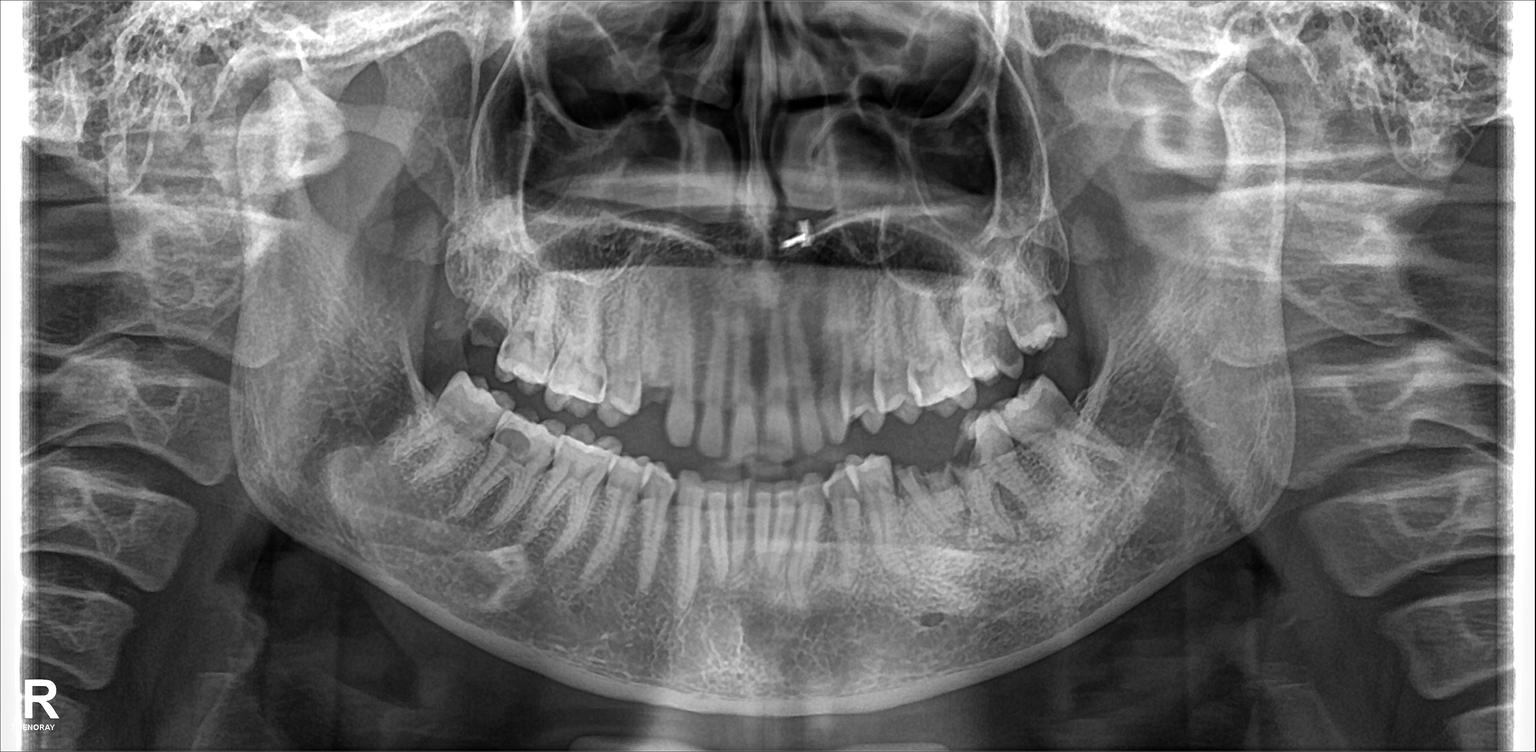Dental Caries: (488, 421, 532, 460), (944, 428, 982, 463), (985, 329, 1015, 362), (644, 378, 672, 410)
Missing Tooth: (443, 233, 496, 371)
Retained Root: (926, 443, 971, 544), (898, 452, 930, 536)
